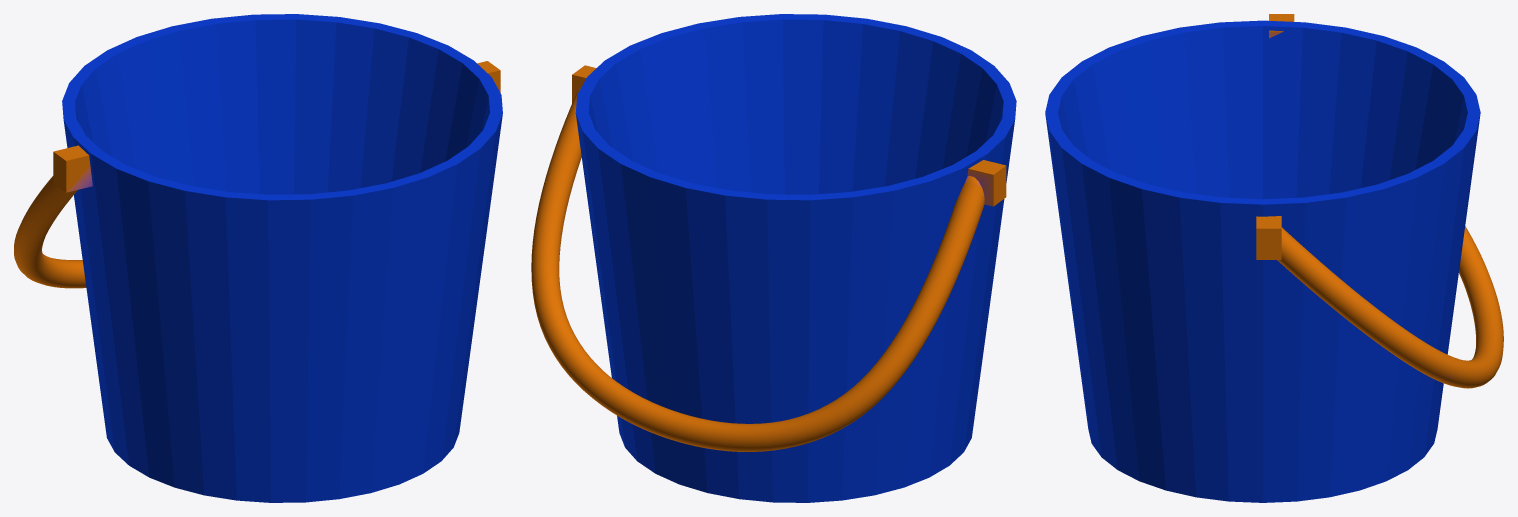
The model's file is FBX_Bucket.fbx.
3 views of the same model, side by side, from view 1: azimuth 30°, elevation 25°; view 2: azimuth 150°, elevation 25°; view 3: azimuth 270°, elevation 25° (orthographic).
Visible parts, largest first — view 1: FBX_bucket; view 2: FBX_bucket; view 3: FBX_bucket.
Part boxes in pixels (x1,y1,x2,y2): FBX_bucket: (14, 14, 502, 502); FBX_bucket: (531, 14, 1016, 502); FBX_bucket: (1045, 14, 1503, 502).
Size of the model in its own units: 69.72 by 50 by 65.66.
